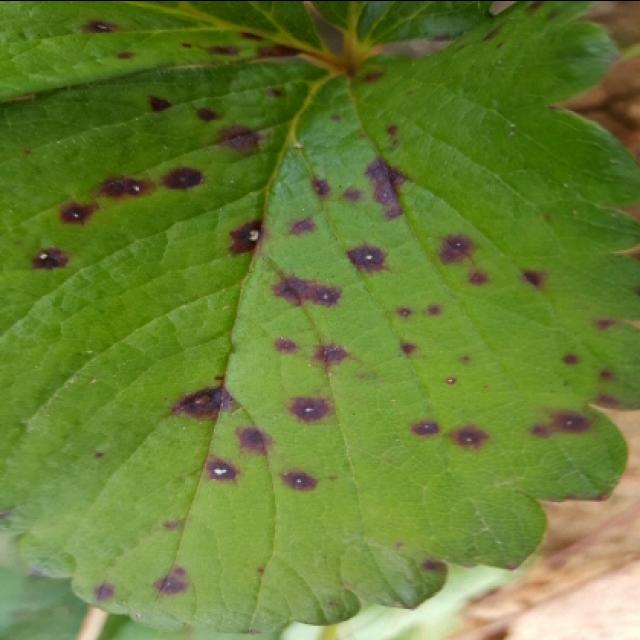Leaf Spot: (0, 2, 638, 640), (0, 2, 334, 98)
